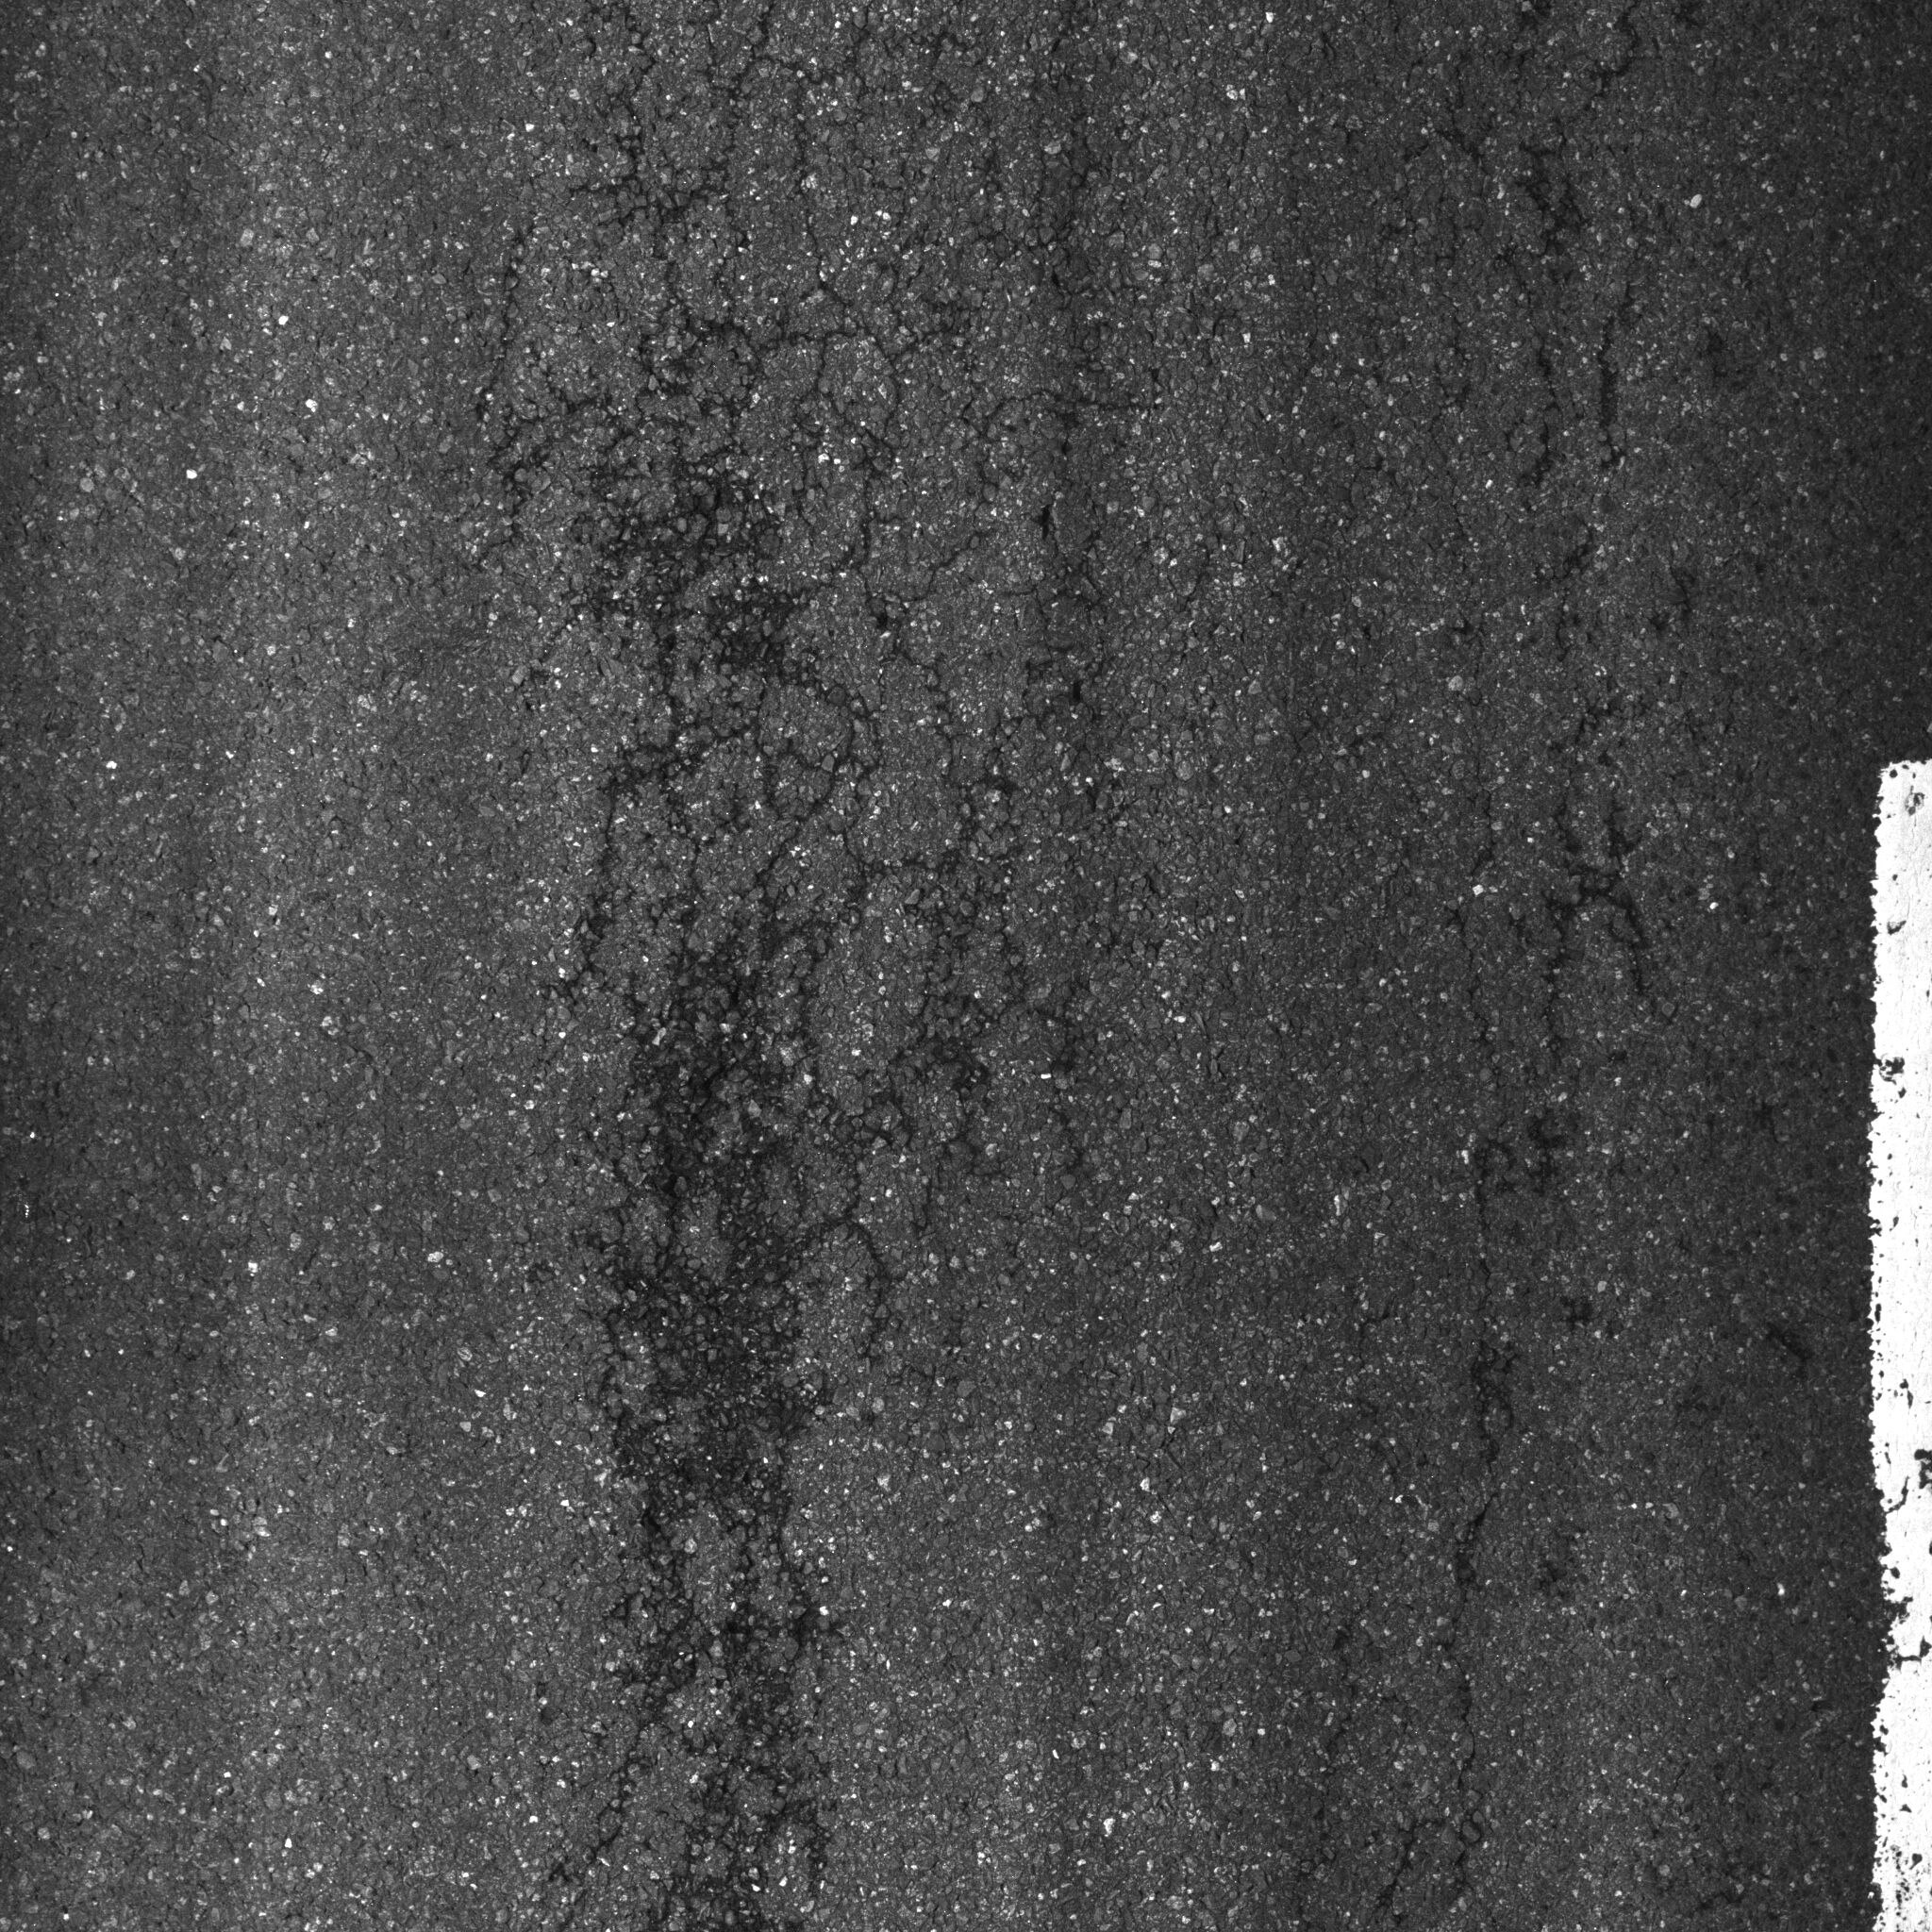alligator: (488, 14, 1116, 1925), (1323, 2, 1775, 1932)
